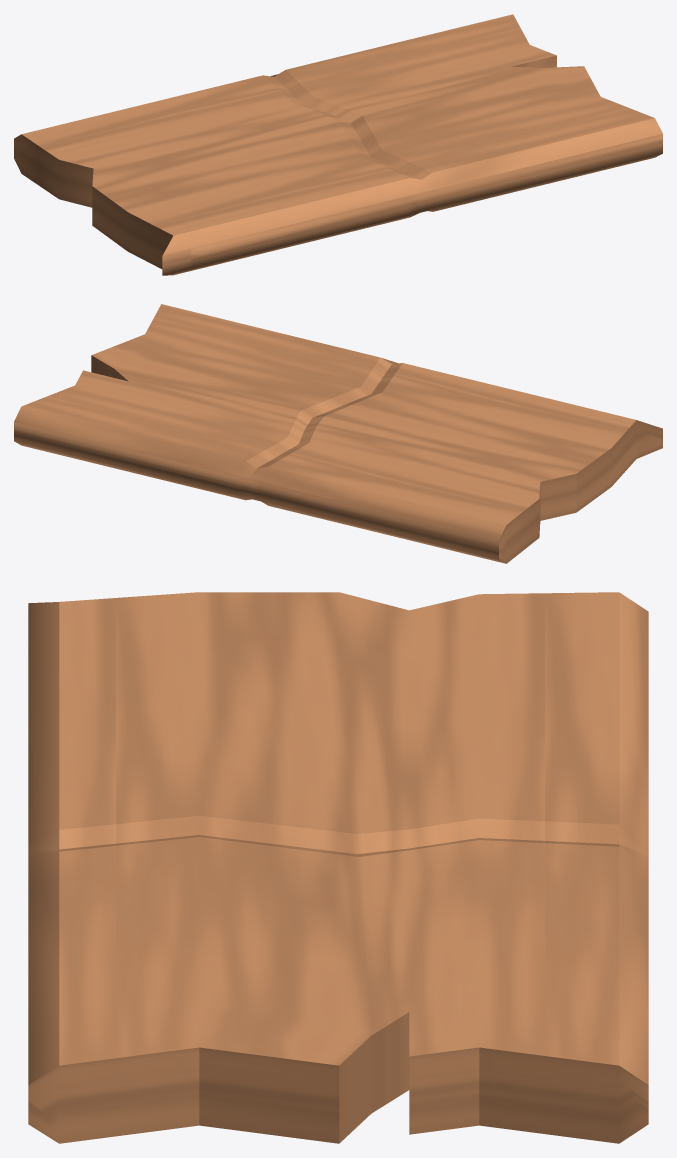
Rendered from GAMEJAMPUFFER - Plank.fbx.
The picture shows the model from 3 angles, top to bottom: view 1: azimuth 30°, elevation 25°; view 2: azimuth 150°, elevation 25°; view 3: azimuth 270°, elevation 25°; orthographic projection. The views are drawn at different scales.
Visible parts, largest first — view 1: Plank; view 2: Plank; view 3: Plank.
Part boxes in pixels (x1,y1,x2,y2): Plank: [14, 14, 662, 275]; Plank: [14, 304, 662, 563]; Plank: [28, 592, 648, 1143].
Size of the model in its own units: 265 by 20 by 144.
Materials: 1 (1 with a texture image).
